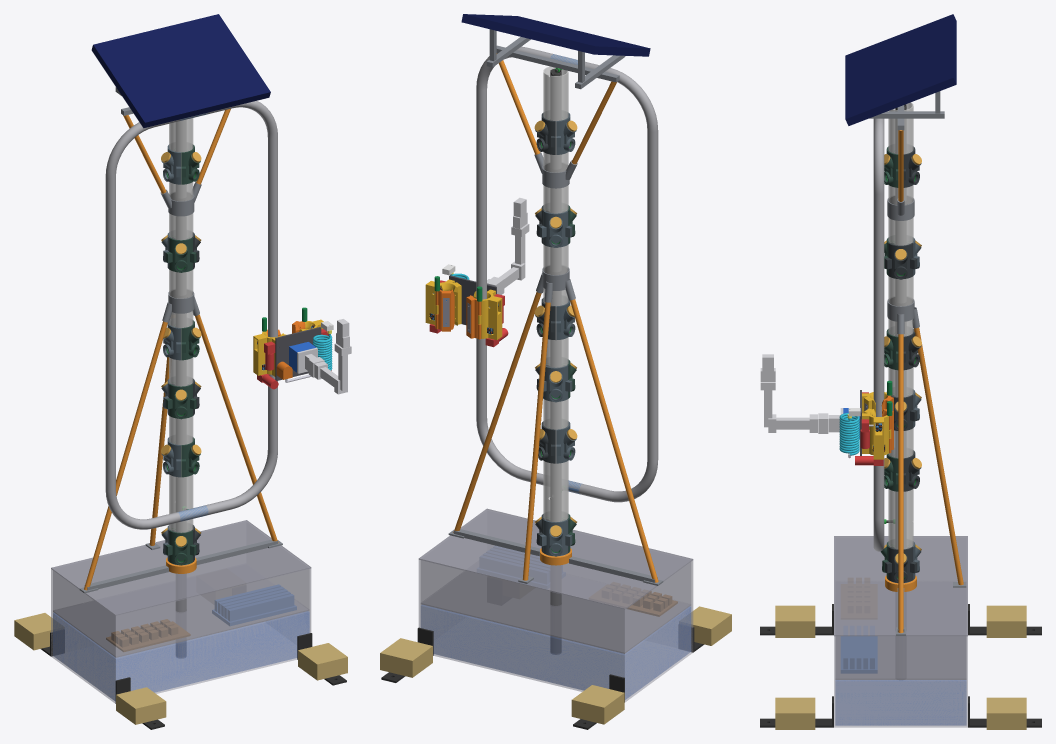
File: complete-unit-v3.glb
3 views of the same model, side by side, from view 1: azimuth 30°, elevation 25°; view 2: azimuth 150°, elevation 25°; view 3: azimuth 270°, elevation 25° (orthographic). The views are drawn at different scales.
Visible parts, largest first — view 1: tank, solar_panel_30W, water_volume, lid, track_loop, growing_pipe, shelf, sandbags, lower_aframe_and_back_strut_16mm, spine_tube, seedling_storage, cart_so101_arm_envelope (+12 smaller); view 2: tank, water_volume, lid, track_loop, shelf, growing_pipe, lower_aframe_and_back_strut_16mm, sandbags, spine_tube, solar_panel_30W, seedling_storage, seedling_tray (+17 smaller); view 3: tank, lid, solar_panel_30W, water_volume, sandbags, growing_pipe, track_loop, shelf, lower_aframe_and_back_strut_16mm, cart_so101_arm_envelope, spine_tube, seedling_storage (+14 smaller).
Part boxes in pixels (left/top/right/bottom): tank: left=51, top=532, right=311, bottom=703; solar_panel_30W: left=91, top=14, right=270, bottom=128; water_volume: left=53, top=611, right=309, bottom=700; lid: left=51, top=520, right=311, bottom=615; track_loop: left=105, top=100, right=277, bottom=529; growing_pipe: left=169, top=118, right=193, bottom=565; shelf: left=53, top=579, right=309, bottom=657; sandbags: left=14, top=613, right=347, bottom=724; lower_aframe_and_back_strut_16mm: left=84, top=314, right=278, bottom=590; spine_tube: left=176, top=120, right=186, bottom=657; seedling_storage: left=212, top=584, right=296, bottom=625; cart_so101_arm_envelope: left=297, top=319, right=351, bottom=394; tank: left=418, top=544, right=693, bottom=702; water_volume: left=421, top=605, right=690, bottom=699; lid: left=418, top=508, right=693, bottom=609; track_loop: left=476, top=46, right=658, bottom=502; shelf: left=421, top=571, right=690, bottom=653; growing_pipe: left=543, top=66, right=568, bottom=556; lower_aframe_and_back_strut_16mm: left=453, top=292, right=658, bottom=582; sandbags: left=380, top=606, right=731, bottom=724; spine_tube: left=550, top=68, right=561, bottom=654; solar_panel_30W: left=461, top=14, right=650, bottom=56; seedling_storage: left=477, top=546, right=565, bottom=588; seedling_tray: left=589, top=582, right=677, bottom=616; tank: left=834, top=538, right=967, bottom=727; lid: left=834, top=536, right=967, bottom=636; solar_panel_30W: left=845, top=14, right=956, bottom=125; water_volume: left=835, top=680, right=966, bottom=725; sandbags: left=775, top=605, right=1026, bottom=729; growing_pipe: left=888, top=102, right=913, bottom=583; track_loop: left=873, top=118, right=884, bottom=551; shelf: left=835, top=636, right=966, bottom=679; lower_aframe_and_back_strut_16mm: left=898, top=327, right=963, bottom=633; cart_so101_arm_envelope: left=760, top=354, right=843, bottom=433; spine_tube: left=895, top=104, right=906, bottom=626; seedling_storage: left=841, top=626, right=877, bottom=673.
Size of the model in its own units: 851 by 2080 by 840.
